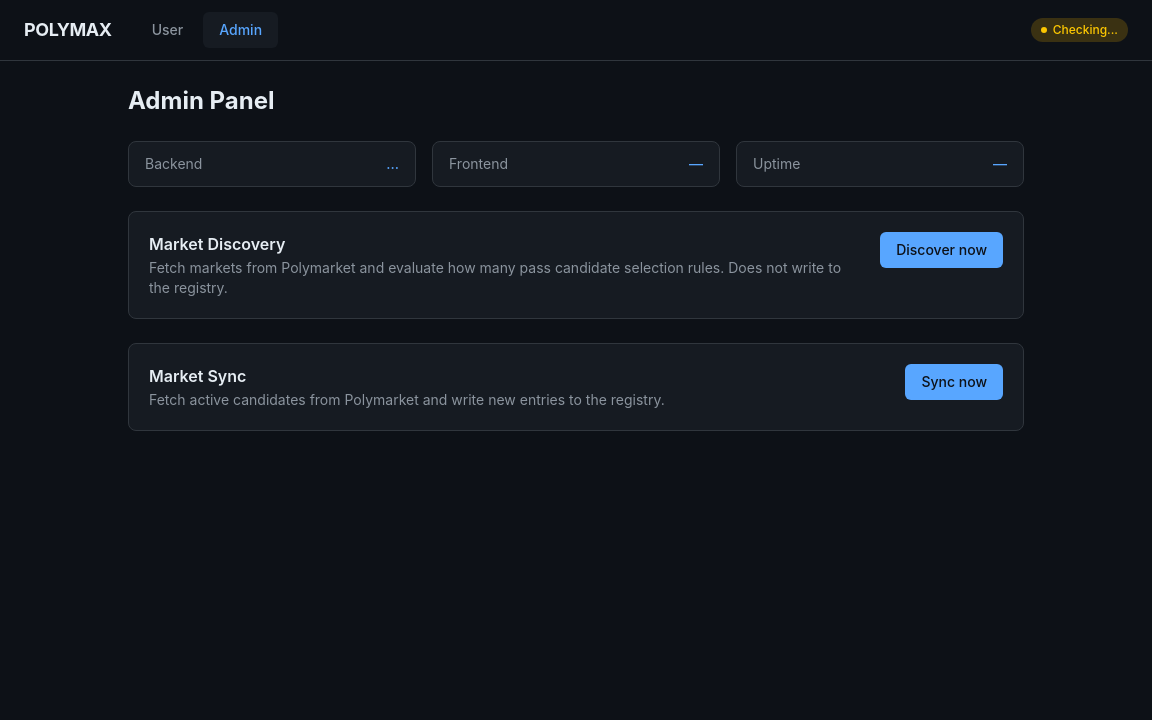
Test case: SyncAction › shows error message when sync request fails
The width and height of the screenshot is (1152, 720).
Step 1. Click the button "Sync now" → (954, 382), box 905,364 -> 1003,400
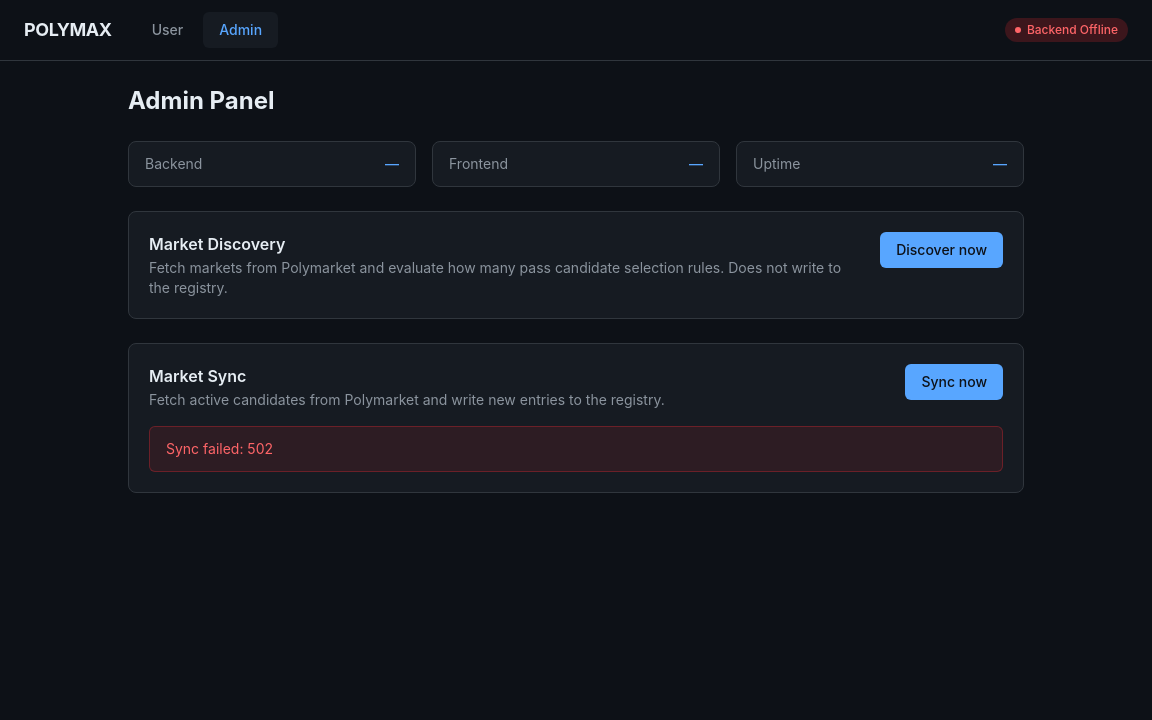
Now the text "Sync failed: 502" is shown, box 149,426 -> 1003,472
